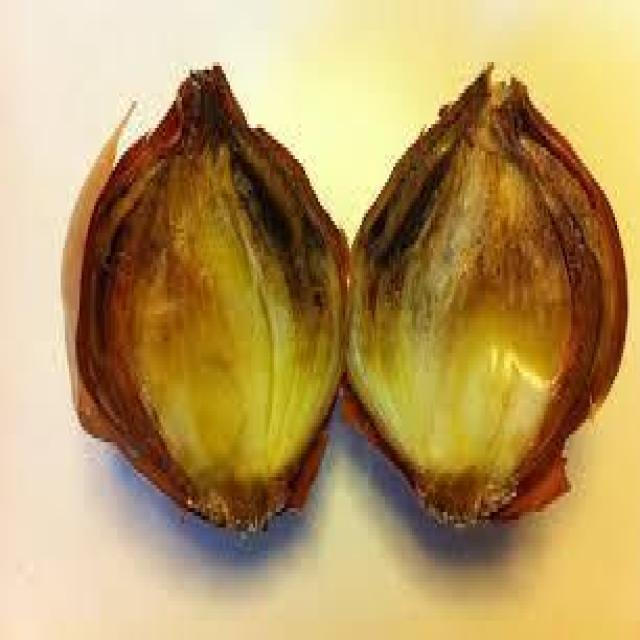Onion: (345, 66, 630, 558), (75, 66, 347, 543)
